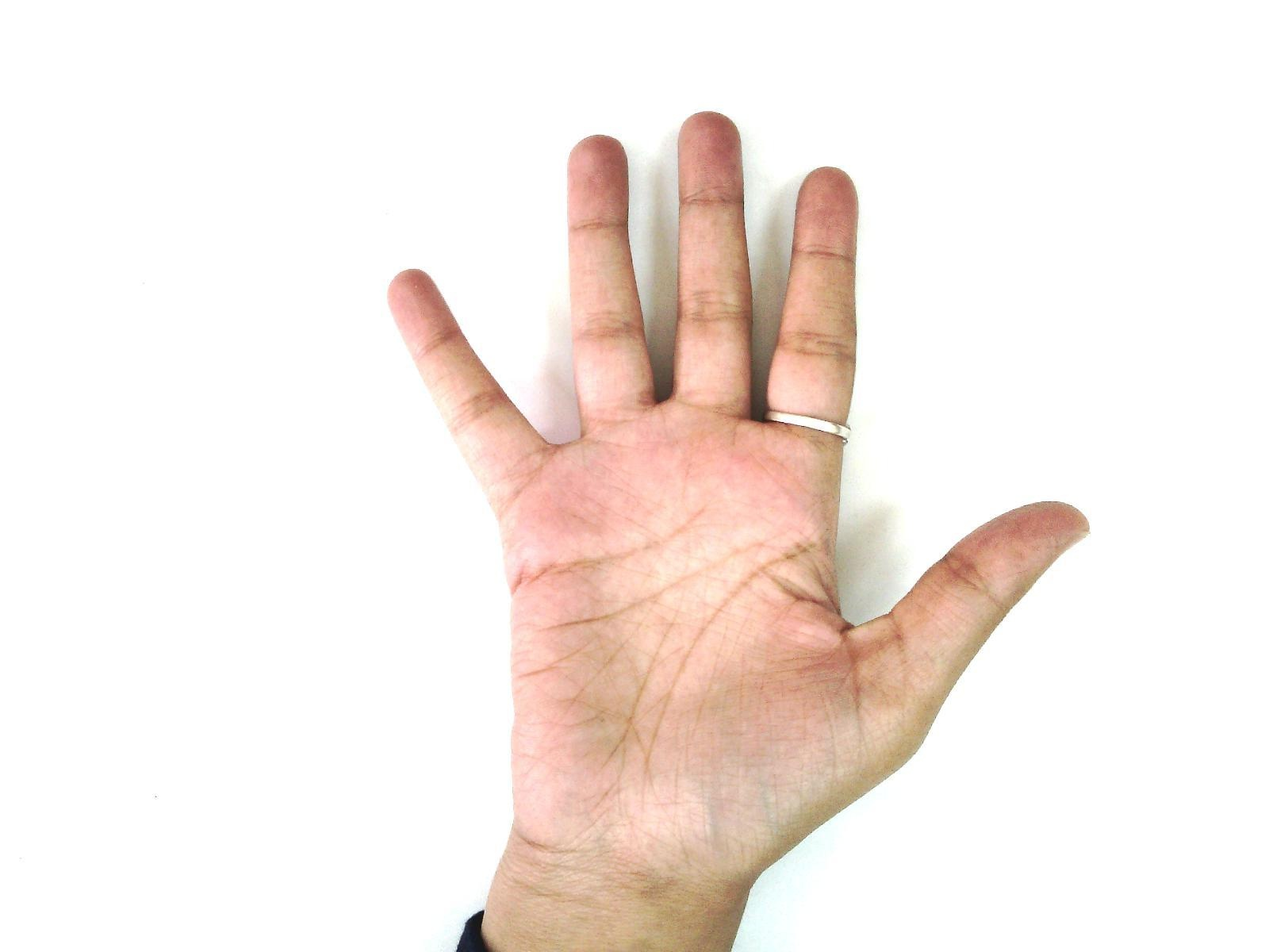open_palm: (383, 109, 1092, 949)
